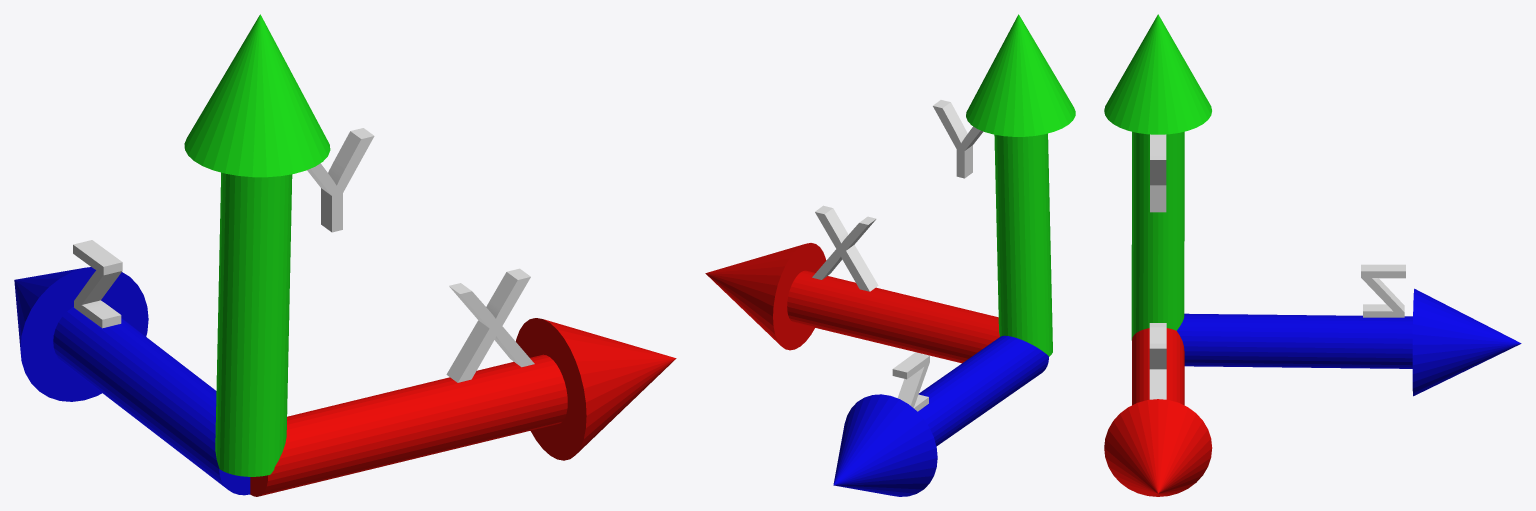
3 views of the same model, side by side, from view 1: azimuth 30°, elevation 25°; view 2: azimuth 150°, elevation 25°; view 3: azimuth 270°, elevation 25° (orthographic). The views are drawn at different scales.
Visible parts, largest first — view 1: Cylinder.002, Cylinder, Cylinder.001, uploads files 1950256 bX, uploads files 1950256 bY, uploads files 1950256 bZ; view 2: Cylinder.002, Cylinder, Cylinder.001, uploads files 1950256 bX, uploads files 1950256 bY, uploads files 1950256 bZ; view 3: Cylinder.001, Cylinder.002, Cylinder, uploads files 1950256 bZ, uploads files 1950256 bX, uploads files 1950256 bY.
Part boxes in pixels (x1,y1,x2,y2): Cylinder.002: (184,14,330,476); Cylinder: (250,318,676,496); Cylinder.001: (14,267,250,495); uploads files 1950256 bX: (446,268,534,382); uploads files 1950256 bY: (307,128,374,232); uploads files 1950256 bZ: (73,240,122,328); Cylinder.002: (966,14,1075,356); Cylinder: (705,243,999,363); Cylinder.001: (833,335,1048,496); uploads files 1950256 bX: (812,205,878,291); uploads files 1950256 bY: (933,100,983,178); uploads files 1950256 bZ: (892,352,929,411); Cylinder.001: (1177,288,1521,396); Cylinder.002: (1104,14,1211,340); Cylinder: (1104,328,1212,496); uploads files 1950256 bZ: (1361,264,1405,317); uploads files 1950256 bX: (1149,323,1166,399); uploads files 1950256 bY: (1150,134,1166,212).
Size of the model in its own units: 113 by 115 by 115.
